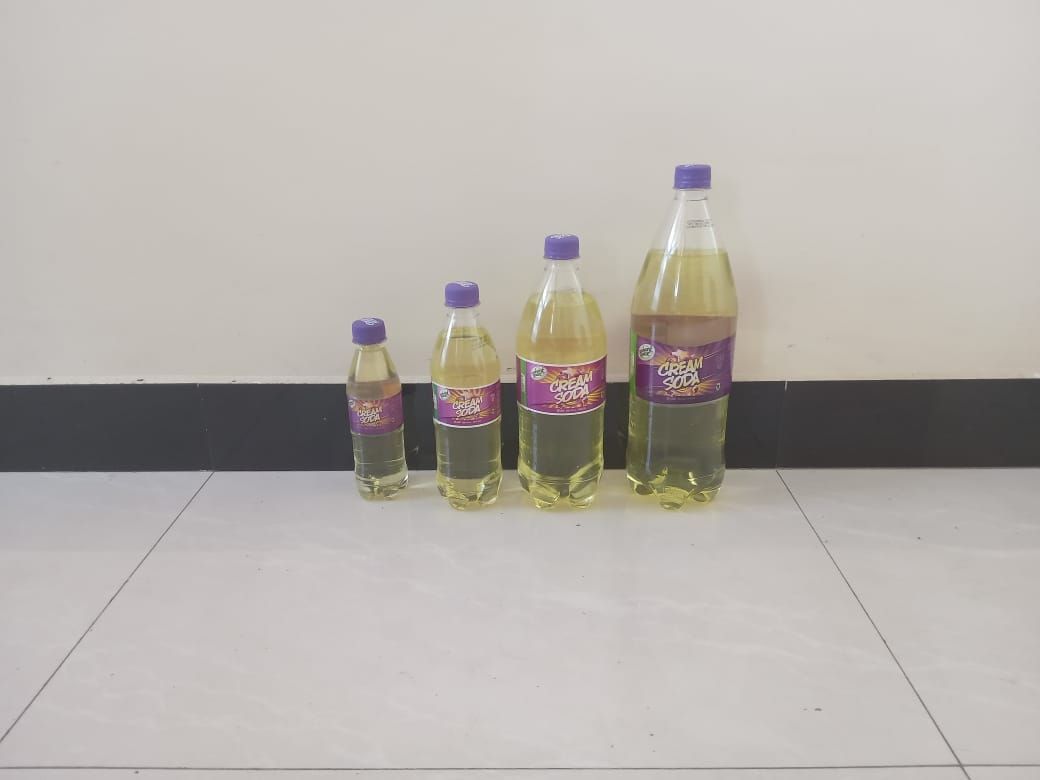L: (623, 162, 739, 518)
M: (516, 228, 609, 520)
S: (427, 276, 508, 509)
Xs: (342, 317, 417, 502)
